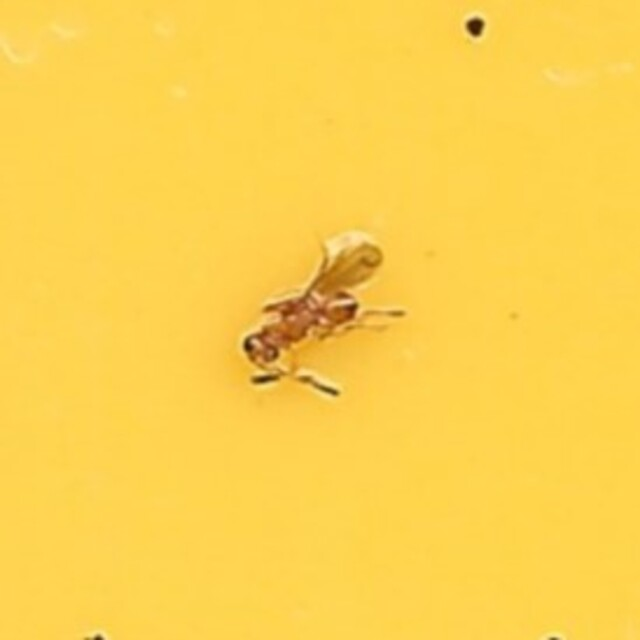Hymenoptera: (234, 232, 406, 408)
